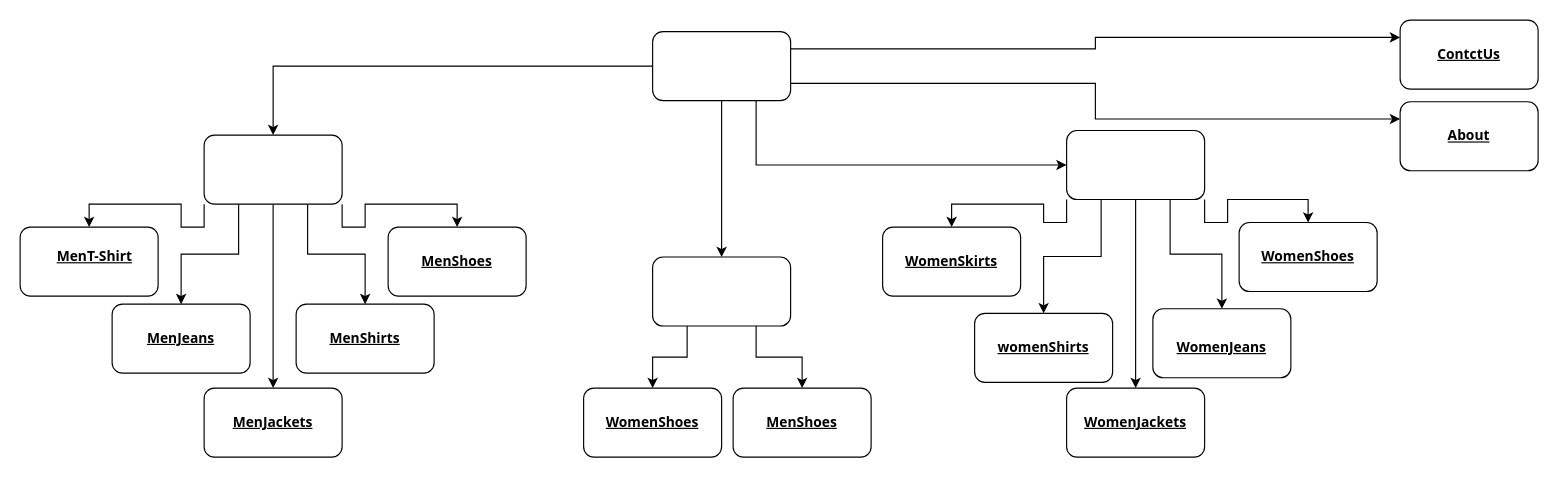
Some shapes in this 1558 by 477 pixel diagram are drawn without their labels. Here are the shapes that lost their labels. From the top down, the centre of each, then its label:
At (x=721, y=65): "Home".
At (x=272, y=169): "Men".
At (x=1135, y=164): "Women".
At (x=721, y=291): "Shoes".
